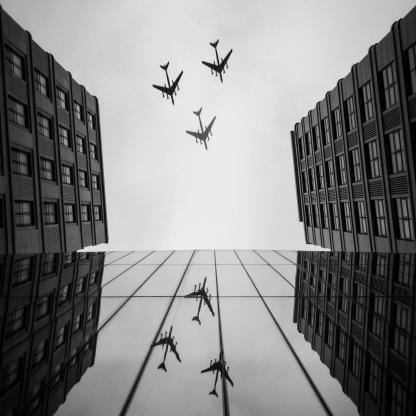Tu95: (153, 61, 185, 108), (203, 39, 234, 86), (187, 107, 217, 153)
